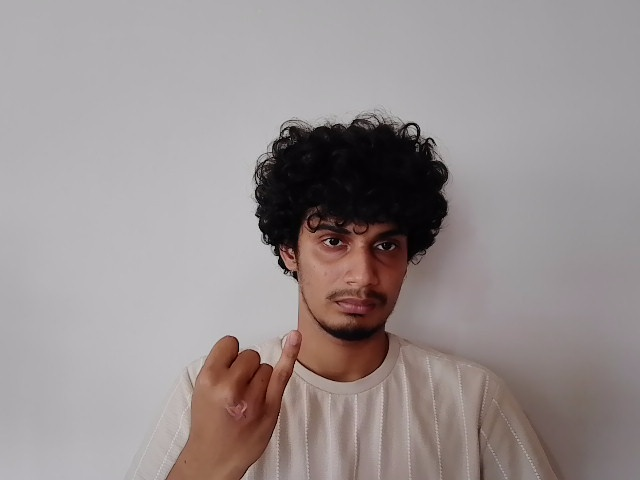bad: (191, 332, 303, 449)
